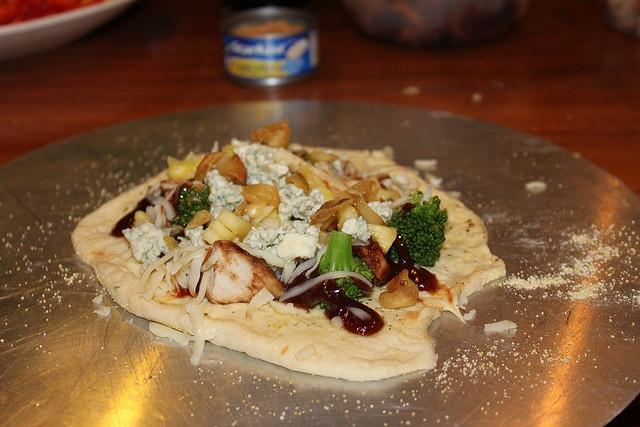broccoli: (389, 196, 448, 266), (318, 230, 374, 302), (172, 184, 212, 227)
